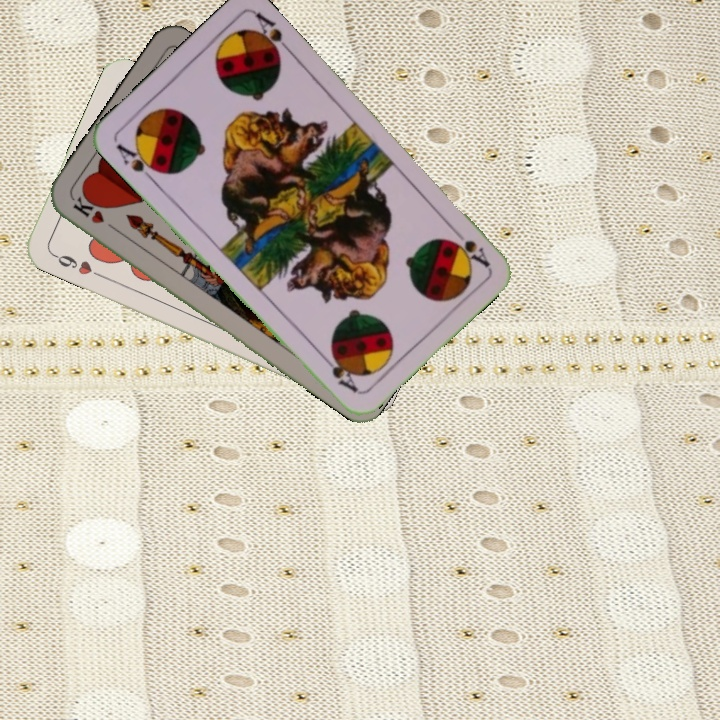H9: (48, 249, 95, 278)
HK: (68, 193, 122, 235)
SA: (112, 139, 164, 185), (446, 222, 493, 270)
